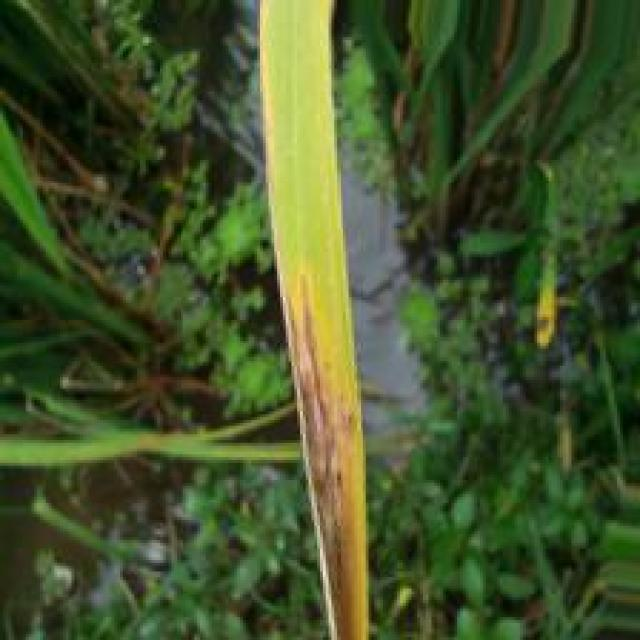Leaf_Scald: (259, 0, 369, 640)
